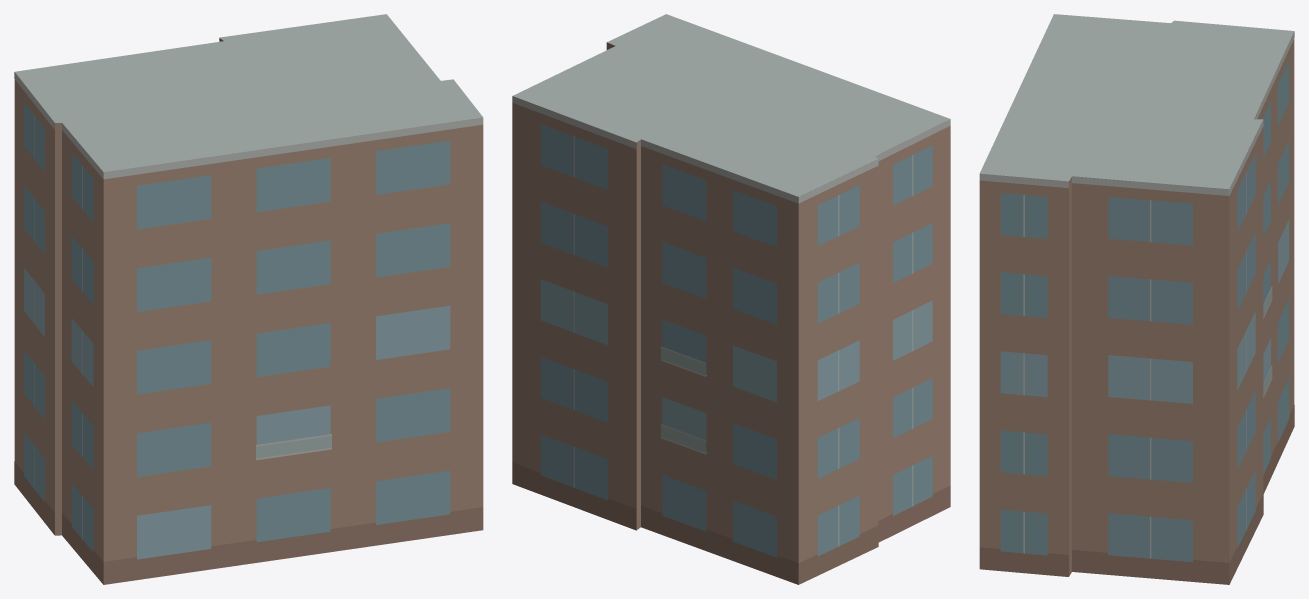
Rendered from survey-upis-32536990.glb.
3 renders of one model, left to right at view 1: azimuth 30°, elevation 25°; view 2: azimuth 150°, elevation 25°; view 3: azimuth 270°, elevation 25°, orthographic. The views are drawn at different scales.
Parts seen in each view (by area): view 1: survey-upis-32536990.tmp; view 2: survey-upis-32536990.tmp; view 3: survey-upis-32536990.tmp.
Boxes of the visible parts, left/top/right/bottom form: survey-upis-32536990.tmp: left=14, top=14, right=483, bottom=584; survey-upis-32536990.tmp: left=512, top=14, right=950, bottom=584; survey-upis-32536990.tmp: left=979, top=14, right=1294, bottom=584.
Bounding box in the file's own units: 13.5 × 14.2 × 10.25.
